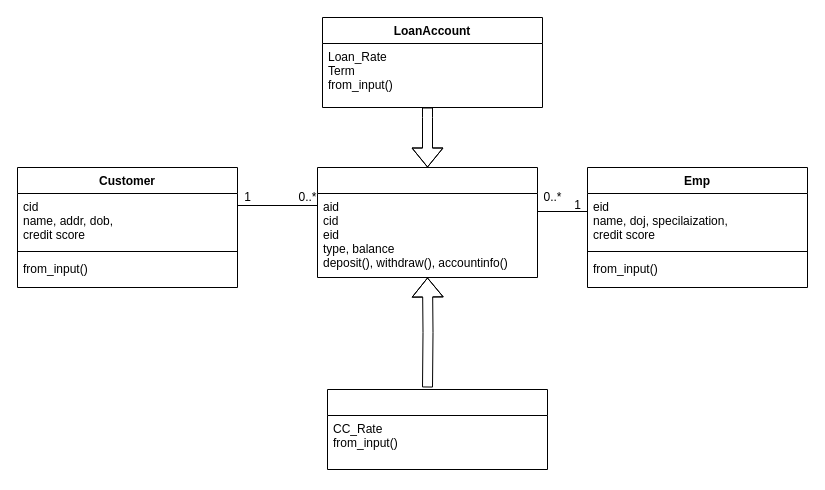
This 825x490 diagram has some shape labels left out. The box of each missing label's shape, as (x1, y1, x2, y2) in pixels:
BankAct: (316, 166, 538, 278)
CreditCard Account: (326, 388, 548, 470)
